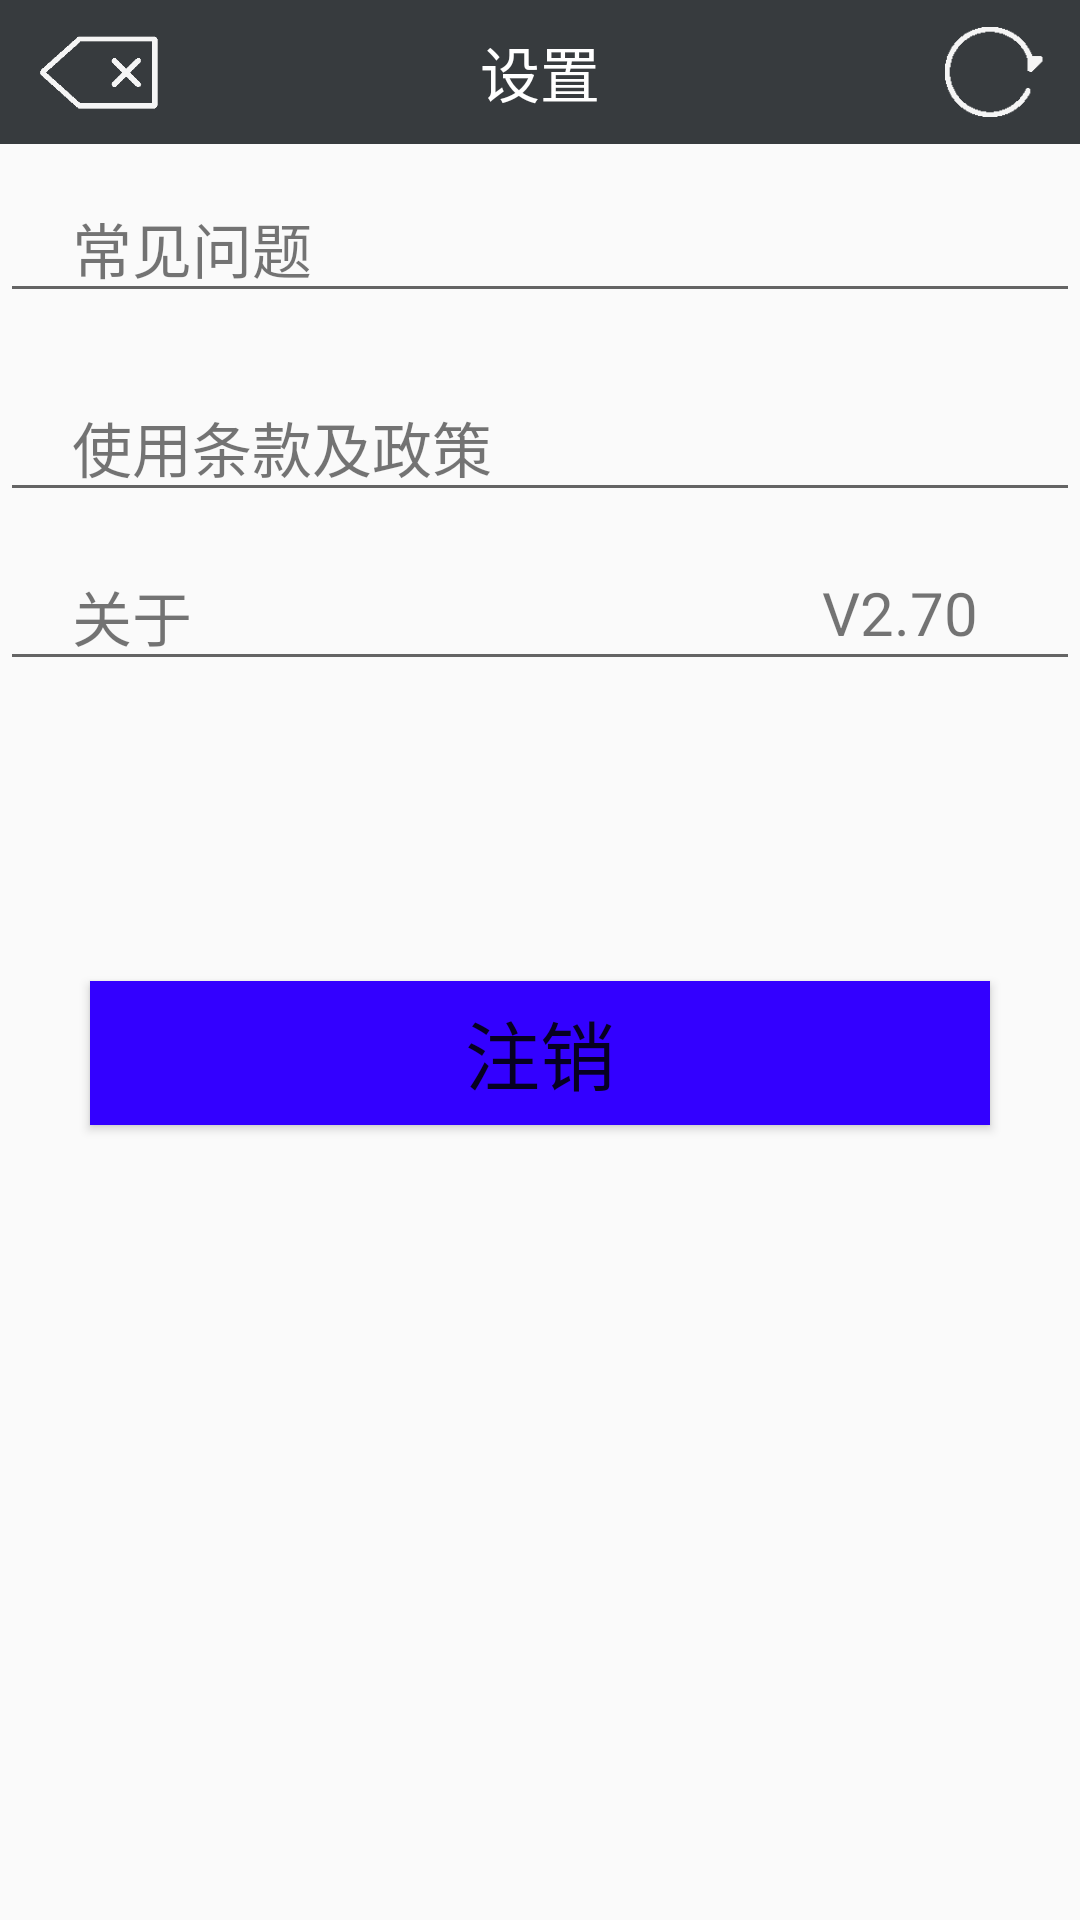

Screen size 1080x1920. Icon name, then its center in pixels as [x,y]:
shuaxin: [994,72]
